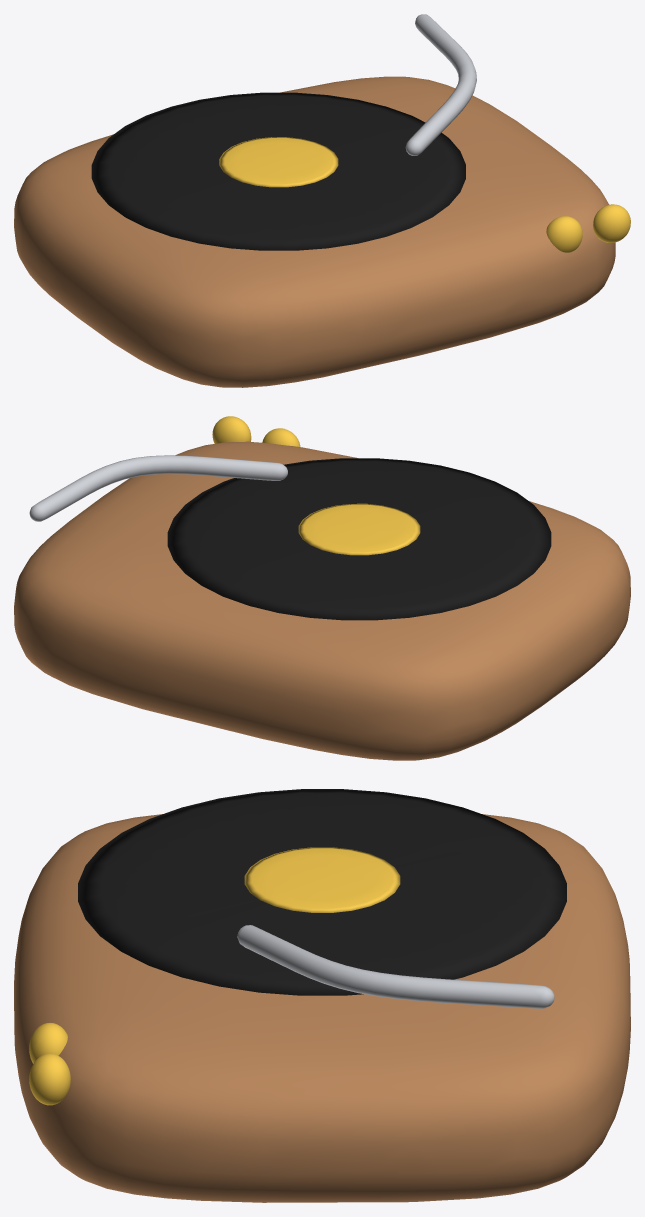
File: deco_tocadiscos.glb
3 renders of one model, top to bottom at view 1: azimuth 30°, elevation 25°; view 2: azimuth 150°, elevation 25°; view 3: azimuth 270°, elevation 25°, orthographic. The views are drawn at different scales.
Visible parts, largest first — view 1: caja tocadiscos.001, disco.001, etiqueta disco.001, brazo.019, perilla 1.001, perilla 0.001; view 2: caja tocadiscos.001, disco.001, brazo.019, etiqueta disco.001, perilla 1.001, perilla 0.001; view 3: caja tocadiscos.001, disco.001, etiqueta disco.001, brazo.019, perilla 1.001, perilla 0.001.
Part boxes in pixels (x1=…): caja tocadiscos.001: x1=14, y1=76, x2=615, y2=387; disco.001: x1=91, y1=92, x2=465, y2=250; etiqueta disco.001: x1=219, y1=137, x2=338, y2=187; brazo.019: x1=405, y1=14, x2=476, y2=155; perilla 1.001: x1=593, y1=204, x2=630, y2=242; perilla 0.001: x1=546, y1=216, x2=582, y2=252; caja tocadiscos.001: x1=14, y1=441, x2=630, y2=760; disco.001: x1=167, y1=458, x2=551, y2=620; brazo.019: x1=29, y1=455, x2=287, y2=521; etiqueta disco.001: x1=298, y1=503, x2=420, y2=555; perilla 1.001: x1=212, y1=416, x2=251, y2=443; perilla 0.001: x1=262, y1=428, x2=300, y2=446; caja tocadiscos.001: x1=14, y1=814, x2=630, y2=1202; disco.001: x1=78, y1=789, x2=566, y2=995; etiqueta disco.001: x1=244, y1=847, x2=400, y2=912; brazo.019: x1=237, y1=925, x2=554, y2=1008; perilla 1.001: x1=29, y1=1053, x2=70, y2=1105; perilla 0.001: x1=29, y1=1023, x2=67, y2=1063.
Bounding box in the file's own units: 0.3996 × 0.1372 × 0.3397.
